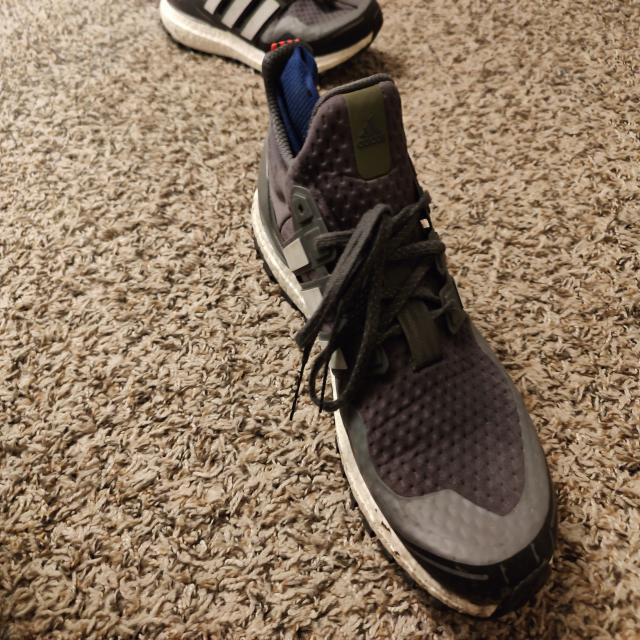black shoes: (280, 69, 464, 486)
